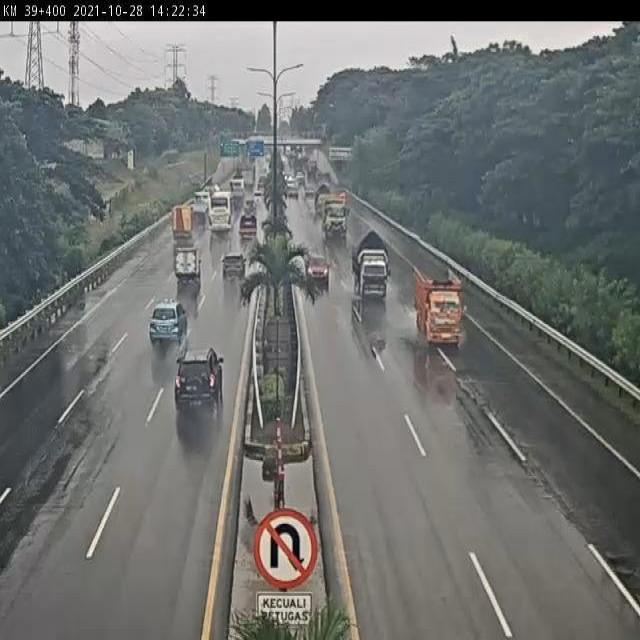bus-l-: (207, 194, 236, 234)
truck-l-: (320, 196, 349, 243)
truck-s-: (415, 267, 464, 352), (351, 232, 392, 299), (168, 200, 193, 241), (239, 216, 261, 237)
